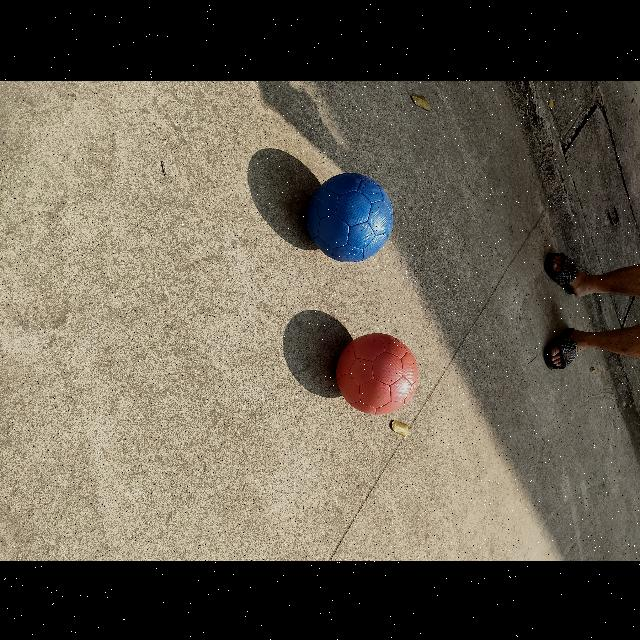B: (307, 171, 394, 262)
R: (336, 332, 419, 414)
